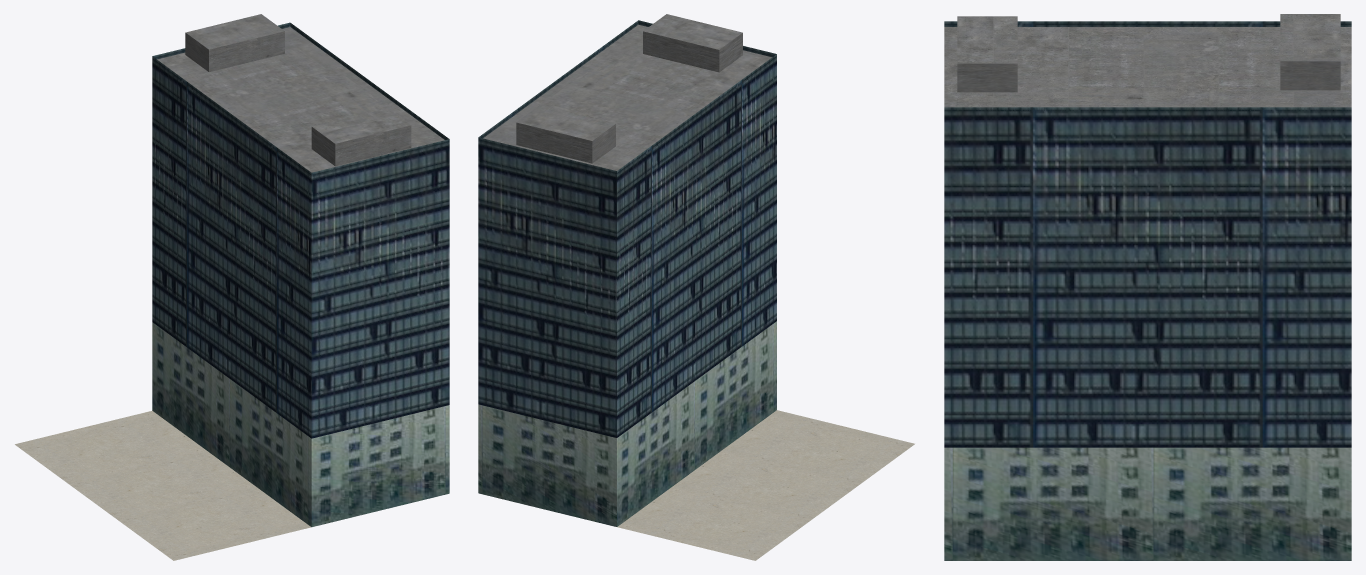
The picture shows the model from 3 angles, left to right: view 1: azimuth 30°, elevation 25°; view 2: azimuth 150°, elevation 25°; view 3: azimuth 270°, elevation 25°; orthographic projection. The views are drawn at different scales.
Visible parts, largest first — view 1: Object_4, Object_1, Object_3, Object_7, Object_6, Object_2, Object_5; view 2: Object_4, Object_1, Object_3, Object_7, Object_2, Object_6, Object_5; view 3: Object_4, Object_1, Object_7, Object_6, Object_2.
Boxes of the visible parts, bbox=[...] form: Object_4: bbox=[152, 22, 449, 438]; Object_1: bbox=[152, 322, 449, 527]; Object_3: bbox=[15, 411, 310, 560]; Object_7: bbox=[157, 27, 444, 172]; Object_6: bbox=[311, 108, 411, 166]; Object_2: bbox=[185, 14, 284, 71]; Object_5: bbox=[152, 23, 449, 176]; Object_4: bbox=[478, 20, 776, 437]; Object_1: bbox=[478, 321, 776, 526]; Object_3: bbox=[617, 410, 914, 560]; Object_7: bbox=[483, 24, 771, 170]; Object_2: bbox=[516, 105, 615, 163]; Object_6: bbox=[643, 14, 742, 72]; Object_5: bbox=[479, 21, 776, 175]; Object_4: bbox=[944, 21, 1351, 447]; Object_1: bbox=[944, 447, 1351, 560]; Object_7: bbox=[944, 27, 1351, 107]; Object_6: bbox=[957, 16, 1017, 92]; Object_2: bbox=[1280, 14, 1340, 90].
Size of the model in its own units: 1283 by 1283 by 1663.
Materials: 7 (7 with a texture image).
